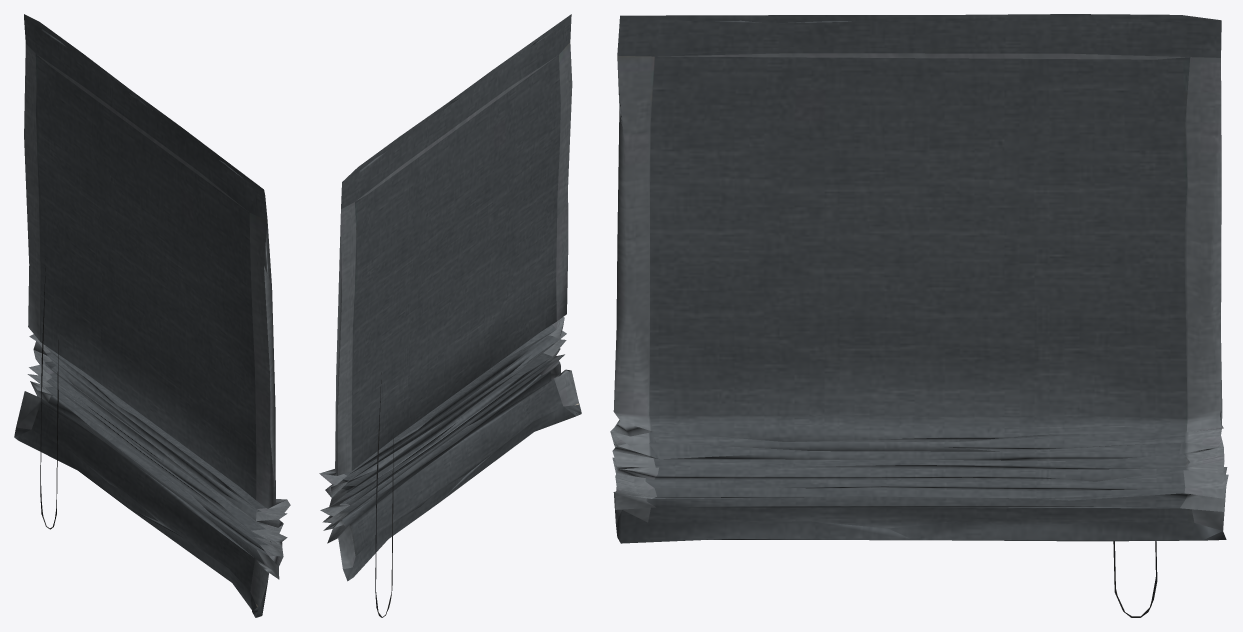
File: Curtains0007.obj
3 views of the same model, side by side, from view 1: azimuth 30°, elevation 25°; view 2: azimuth 150°, elevation 25°; view 3: azimuth 270°, elevation 25° (orthographic). The views are drawn at different scales.
Bounding box in the file's own units: 0.078 × 0.961 × 0.884.
1 material, 1 textured.
